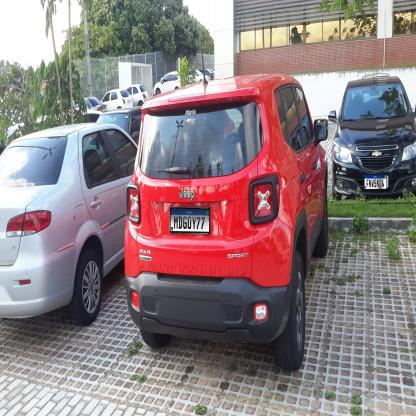PlacaM: (170, 208, 210, 233), (364, 174, 387, 190)
